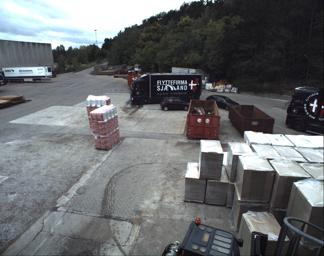rockwool_batts: (90, 102, 118, 149), (85, 91, 112, 123)
